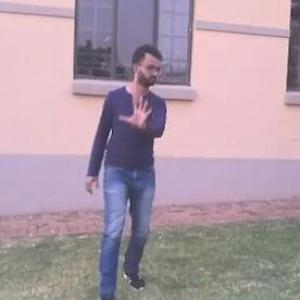follow_hand: (118, 88, 157, 134)
